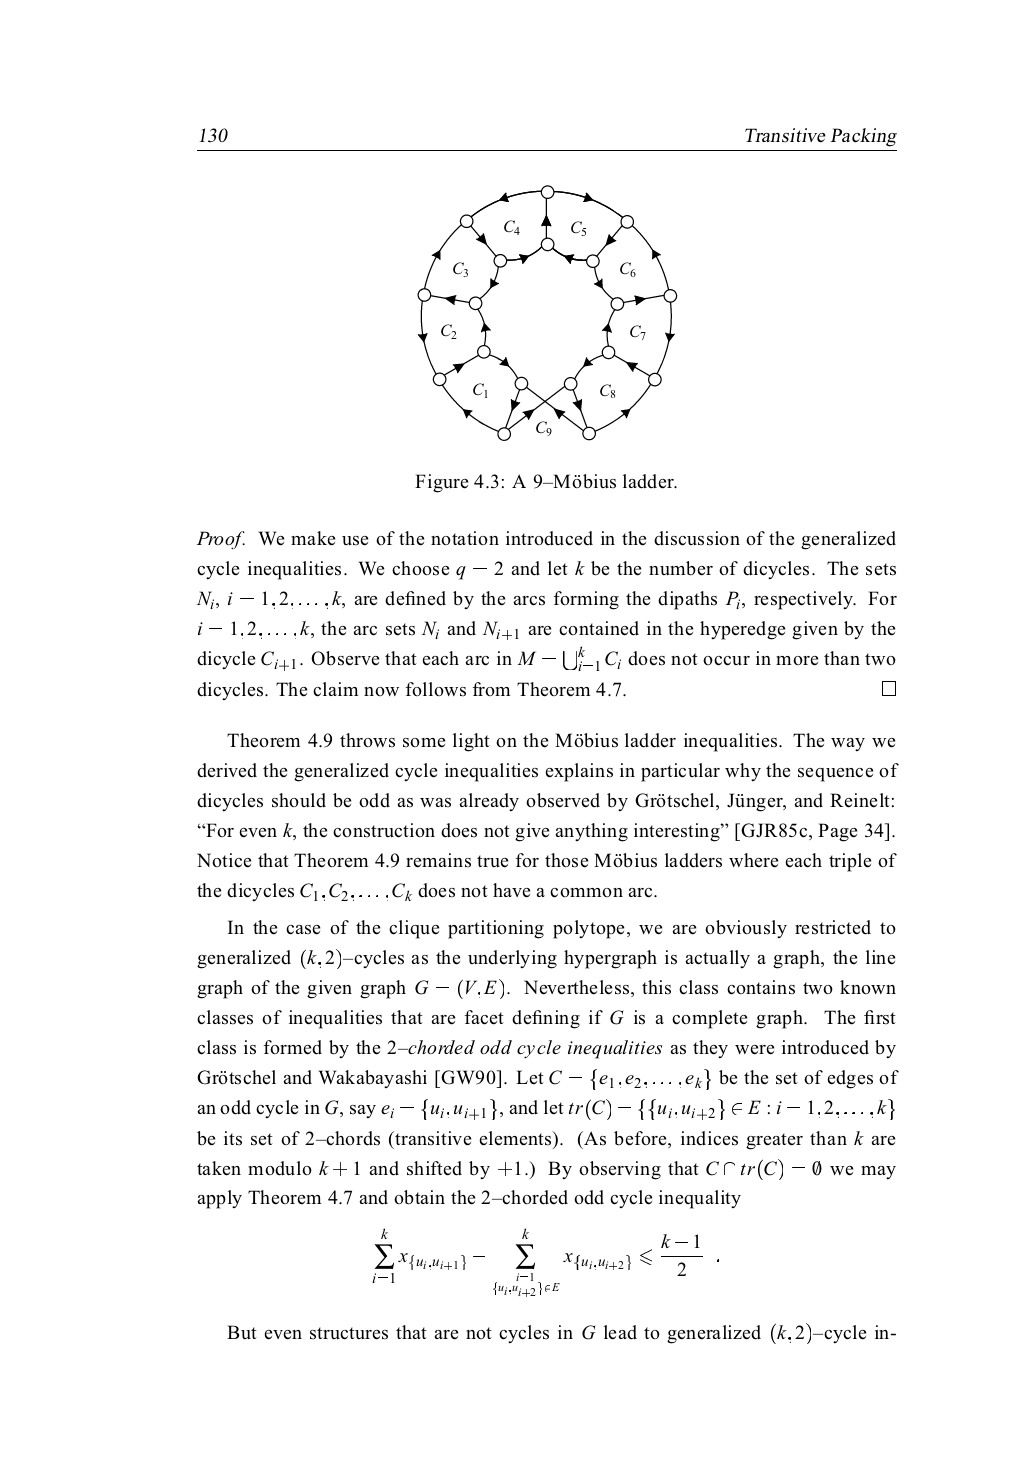figure: (417, 184, 677, 441)
formula: (372, 1227, 717, 1297)
